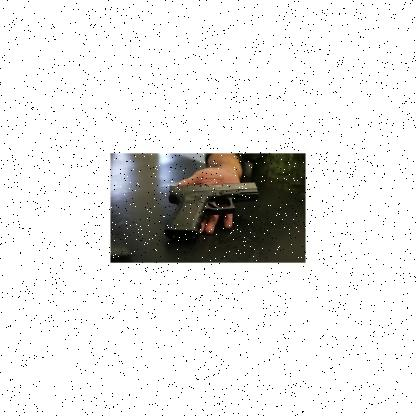gun: (162, 182, 258, 242)
